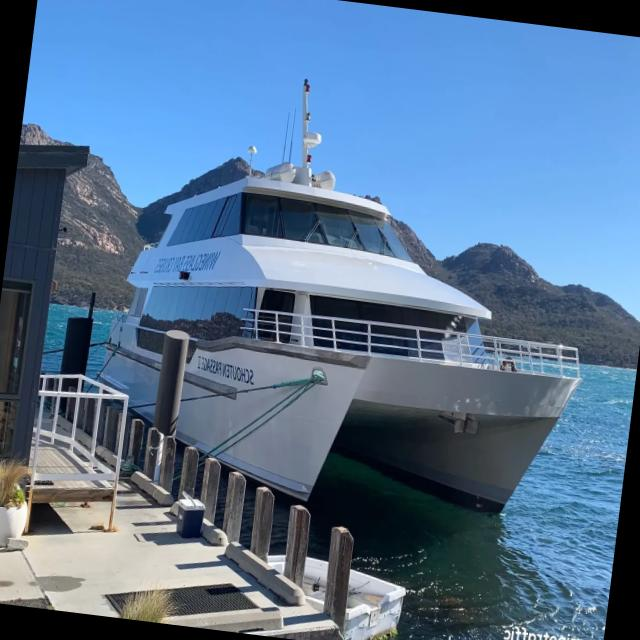Passenger: (101, 79, 580, 512)
